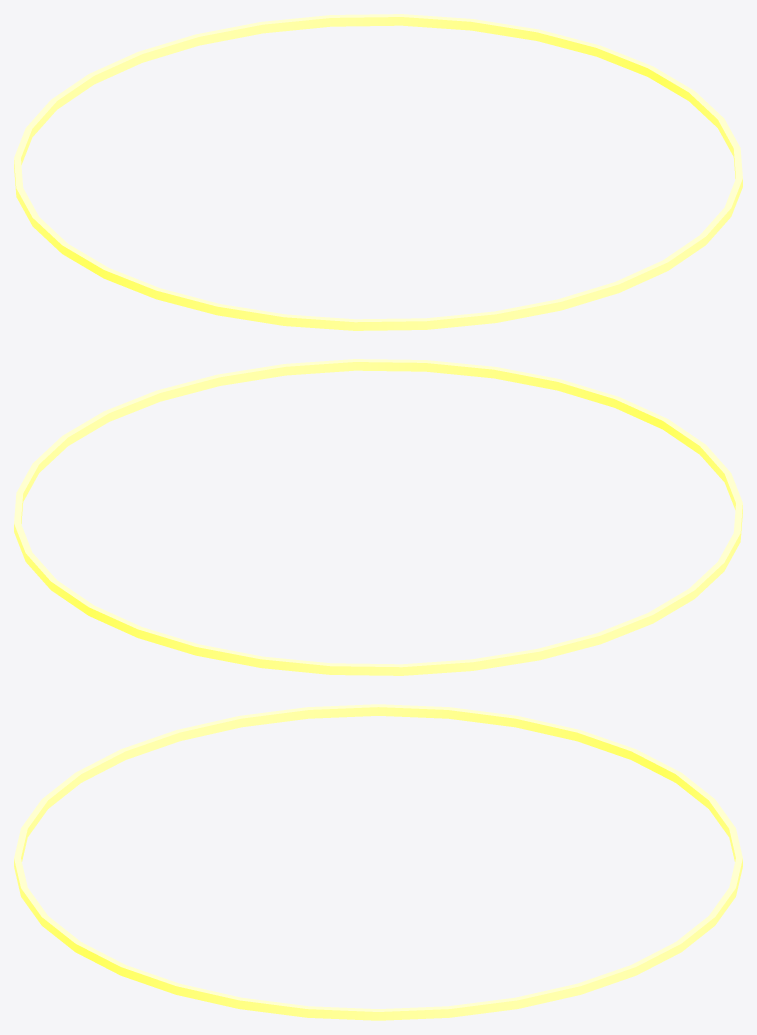
The picture shows the model from 3 angles, top to bottom: view 1: azimuth 30°, elevation 25°; view 2: azimuth 150°, elevation 25°; view 3: azimuth 270°, elevation 25°; orthographic projection.
Visible parts, largest first — view 1: Circle2; view 2: Circle2; view 3: Circle2.
Boxes of the visible parts, x1=… form: Circle2: x1=14, y1=14, x2=742, y2=330; Circle2: x1=14, y1=359, x2=742, y2=675; Circle2: x1=14, y1=704, x2=742, y2=1020.
Bounding box in the file's own units: 7.91 × 0.1045 × 7.92.
